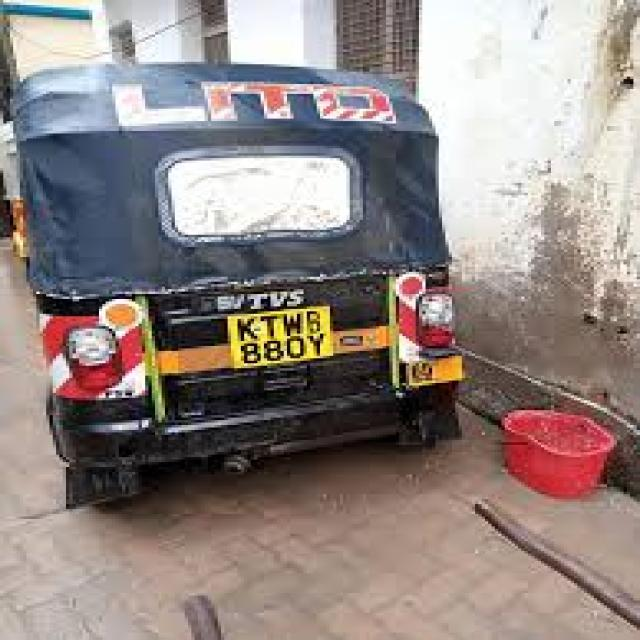tuktuk: (4, 25, 528, 532)
